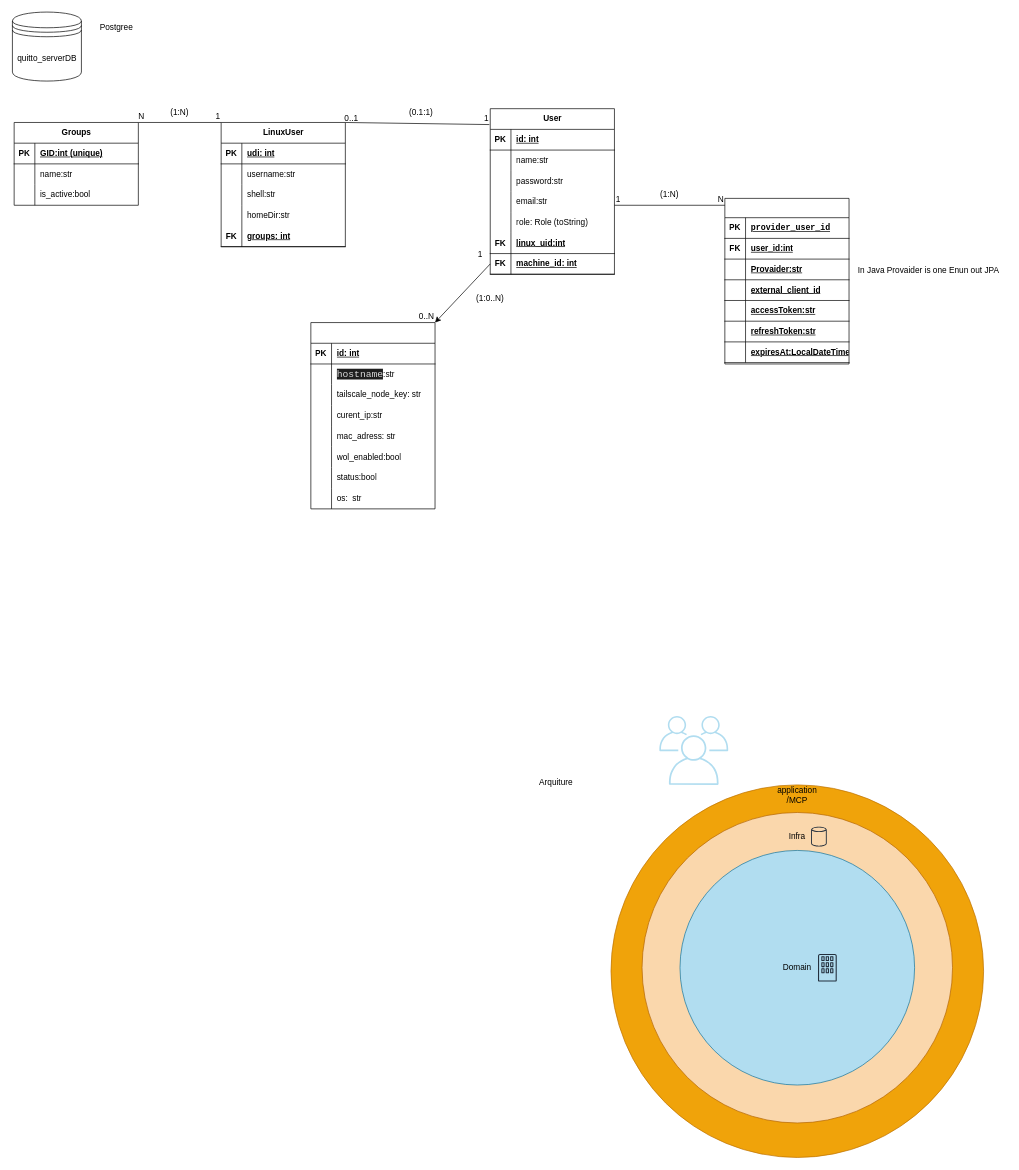
Some shapes in this 1019 by 1170 pixel diagram are drawn without their labels. The shapes that lost their labels are listed below. From the top down, each one's box as (x1, y1, x2, y2) in pixels, then its label:
(724, 198, 849, 364): ExternalAccount
(310, 322, 435, 509): Machine
(659, 715, 728, 785): users
